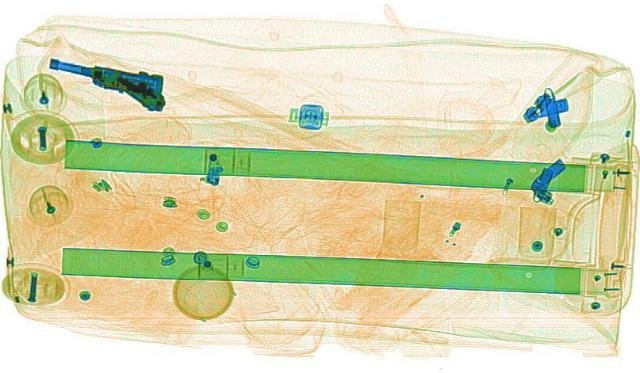Gun: (34, 37, 198, 117)
